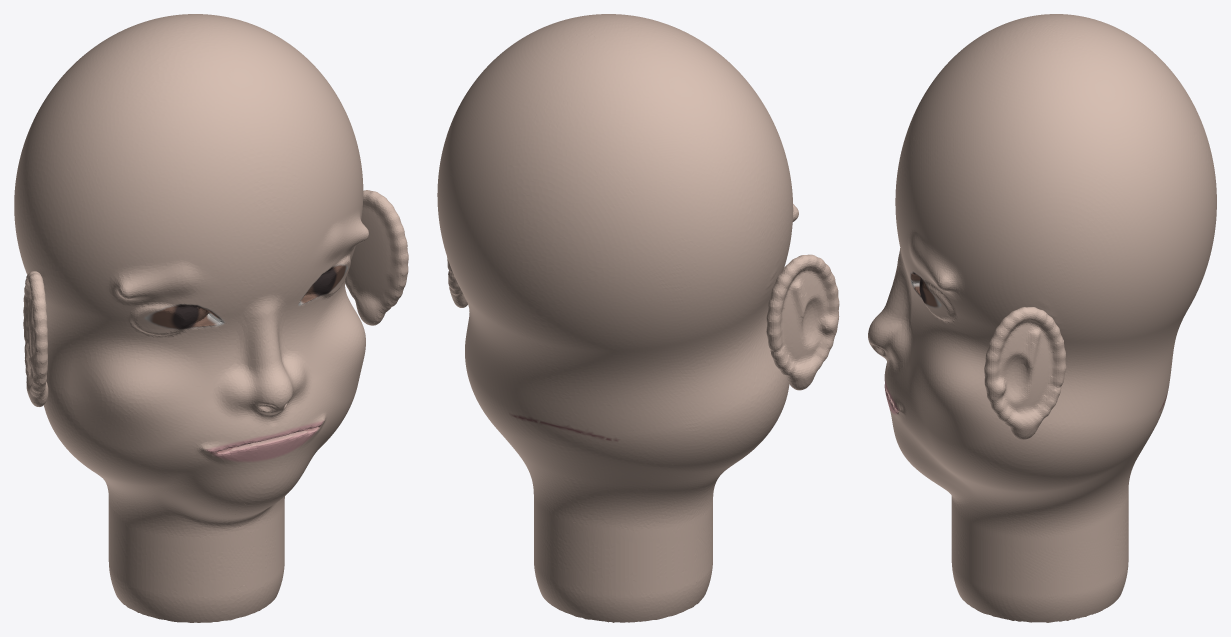
Rendered from karma_face_stage1_E_neutral_EXPERIMENT.glb.
3 renders of one model, left to right at view 1: azimuth 30°, elevation 25°; view 2: azimuth 150°, elevation 25°; view 3: azimuth 270°, elevation 25°, orthographic.
Parts seen in each view (by area): view 1: head; view 2: head; view 3: head.
Part boxes in pixels (box(x1,y1,x2,y2)): head: box(14, 14, 408, 622); head: box(437, 14, 839, 622); head: box(868, 14, 1216, 622).
Size of the model in its own units: 2.7 by 3.83 by 2.17.
